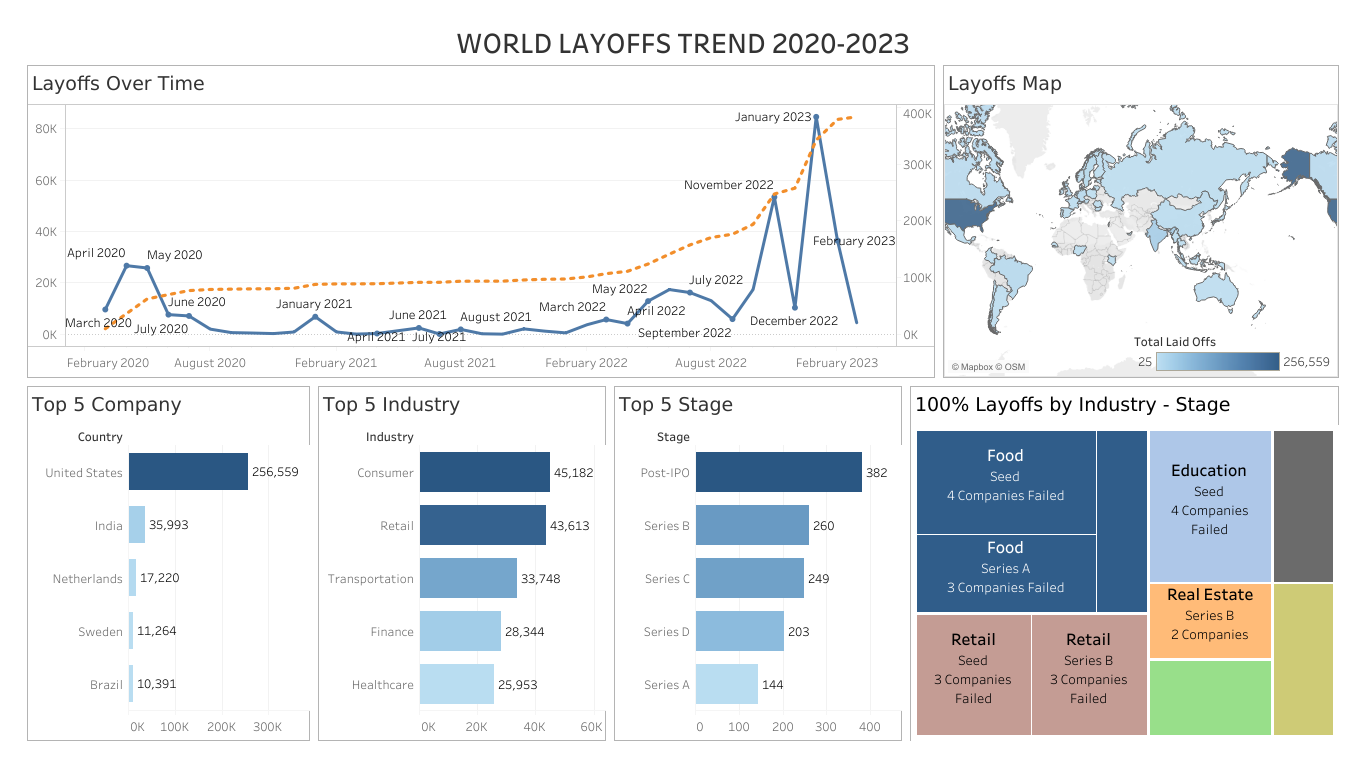

Layout of this report page (visuals, bound fields, positions):
{"tool":"tableau","page":{"name":"Dashboard","canvas":[1366,768],"ordinal":0},"visuals":[{"type":"text","box":[23,23,1320,38.4]},{"type":"worksheet","title":"Rolling Total","mark":"Line","rows":["total_off","rolling_total"],"cols":["month"],"box":[23,61.4,916,320.8]},{"type":"worksheet","title":"Map Chart","mark":"Multipolygon","box":[939,61.4,404,320.8]},{"type":"legend","title":"Map Chart","param":"[federated.1c8n5ax0moe6up19lar611x1lham].[sum:total_laid_offs:qk]","box":[1134,328,201,46]},{"type":"worksheet","title":"Top 5 Company","mark":"Automatic","rows":["company"],"cols":["total_laid_off"],"box":[23,382.2,291.2,362.8]},{"type":"worksheet","title":"Top 5 Industry","mark":"Automatic","rows":["industry"],"cols":["total_laid_off"],"box":[314.2,382.2,295.8,362.8]},{"type":"worksheet","title":"Top 5 Stage","mark":"Automatic","rows":["stage"],"cols":["count_stage"],"box":[610,382.2,296,362.8]},{"type":"worksheet","title":"Failed Industry","mark":"Automatic","box":[906,382.2,437,362.8]}]}

Visuals, with their boxes in screenshot pixels (x1, y1, x2, y2), scaled from the page's 1366x768 canvas onto the 1365x767 screenshot:
text: bbox=[23, 23, 1342, 61]
"Rolling Total" worksheet (Line marks): bbox=[23, 61, 938, 382]
"Map Chart" worksheet (Multipolygon marks): bbox=[938, 61, 1342, 382]
"Map Chart" legend: bbox=[1133, 328, 1334, 374]
"Top 5 Company" worksheet: bbox=[23, 382, 314, 744]
"Top 5 Industry" worksheet: bbox=[314, 382, 610, 744]
"Top 5 Stage" worksheet: bbox=[610, 382, 905, 744]
"Failed Industry" worksheet: bbox=[905, 382, 1342, 744]
